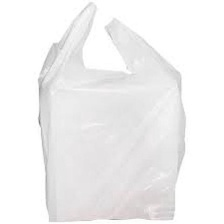plastic_bag: (31, 0, 189, 224)
